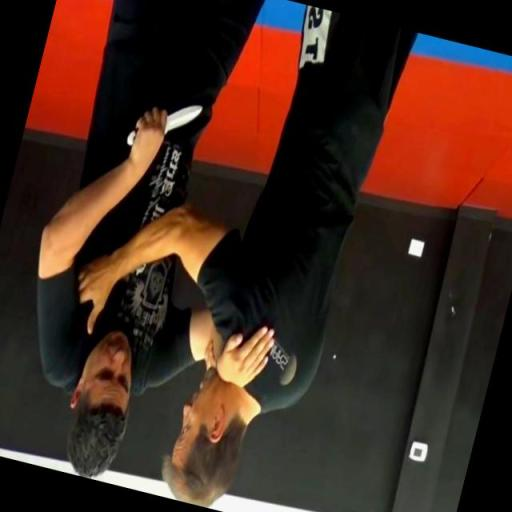knife: (121, 83, 208, 166)
